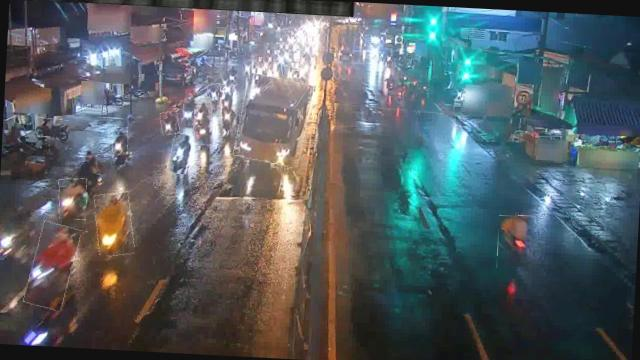Bike: (27, 221, 77, 309), (92, 192, 134, 256), (496, 215, 536, 270), (58, 178, 88, 220), (168, 133, 192, 174), (192, 113, 214, 145), (34, 118, 68, 138), (110, 127, 128, 160), (159, 110, 179, 134), (218, 107, 236, 131), (207, 83, 223, 110), (217, 92, 233, 118), (182, 98, 196, 124), (194, 99, 213, 118)
Bus: (235, 73, 311, 166)
